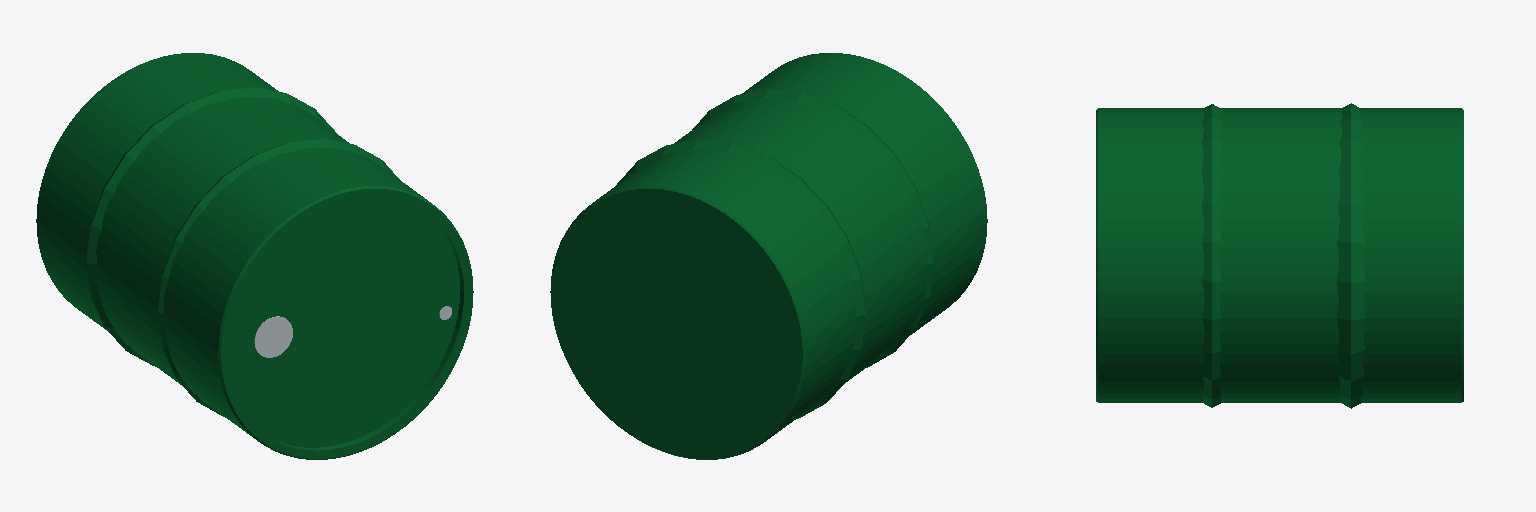
Rendered from tinker.obj.
The picture shows the model from 3 angles: view 1: azimuth 30°, elevation 25°; view 2: azimuth 150°, elevation 25°; view 3: azimuth 270°, elevation 25°; orthographic projection.
Visible parts, largest first — view 1: obj_0; view 2: obj_0; view 3: obj_0.
Part boxes in pixels (x1,y1,x2,y2): obj_0: (36,53,473,459); obj_0: (550,53,987,459); obj_0: (1096,103,1463,408).
Size of the model in its own units: 20.93 by 20.79 by 25.